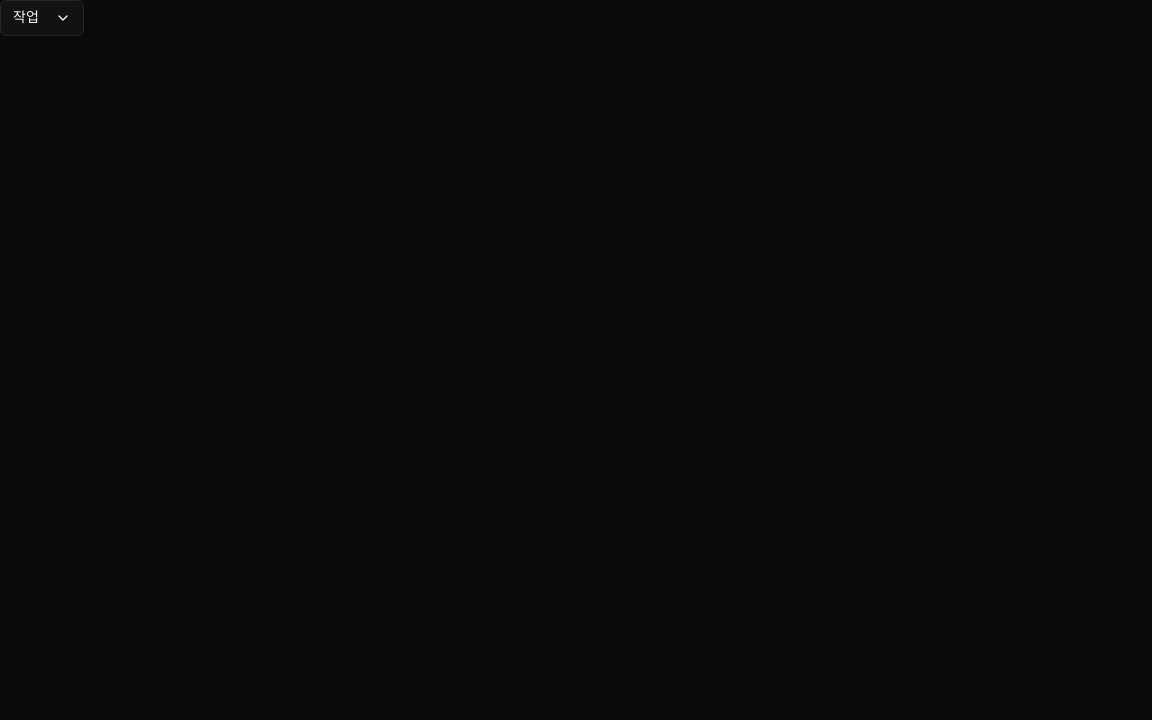
it: AvatarsActionsDropdown — lifecycle 분기 › PUBLISHED '회수' 클릭 → retire dialog open (textarea 노출)
Click the button "작업": (42, 18) [0,0,84,36]
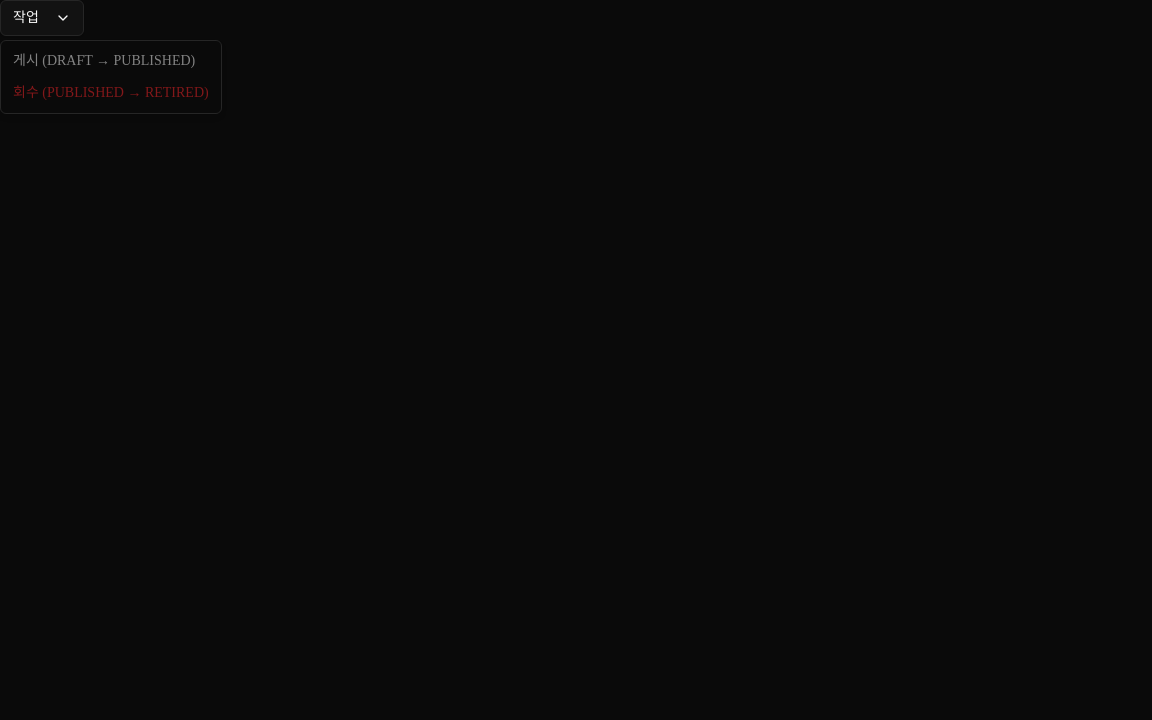
Click the menu item "회수 (PUBLISHED → RETIRED)": (111, 92) [13,85,209,100]
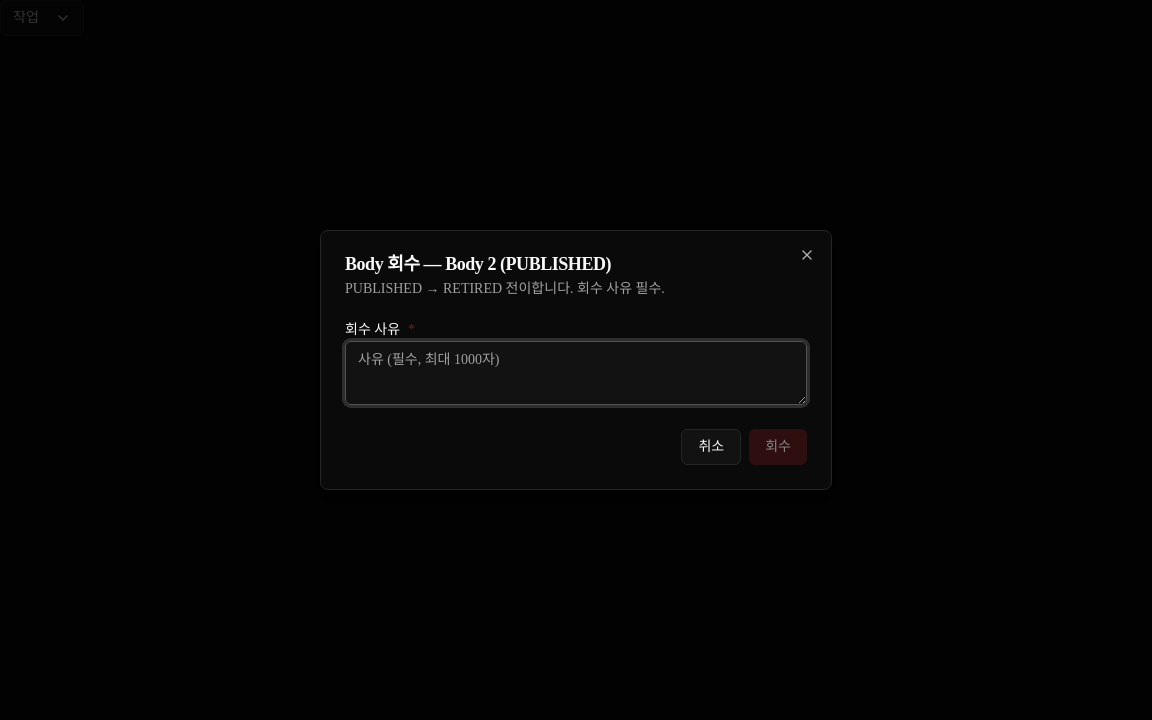
Expected: the heading "Body 회수 — Body 2 (PUBLISHED)" is shown, [345,254,611,274]
Expected: the text box labelled "회수 사유 *" is shown, [345,341,807,405]
